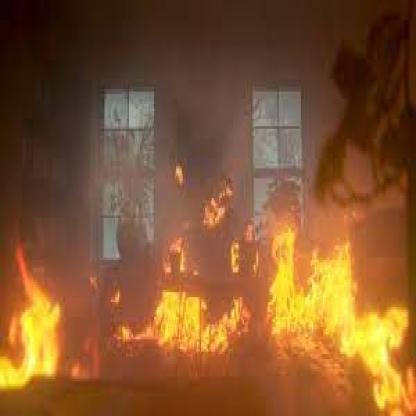fire: (0, 231, 416, 416)
smoke: (0, 3, 416, 302)
